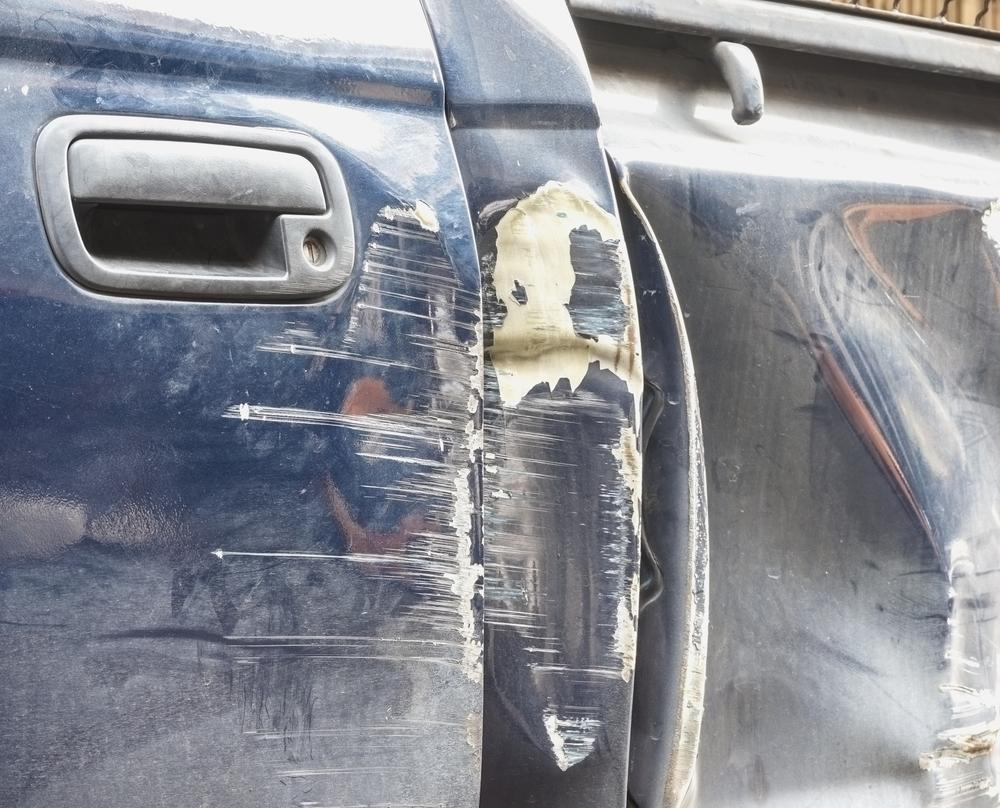dent: (829, 203, 1000, 554)
scratch: (211, 193, 486, 808), (463, 175, 642, 773), (921, 540, 1000, 808)
